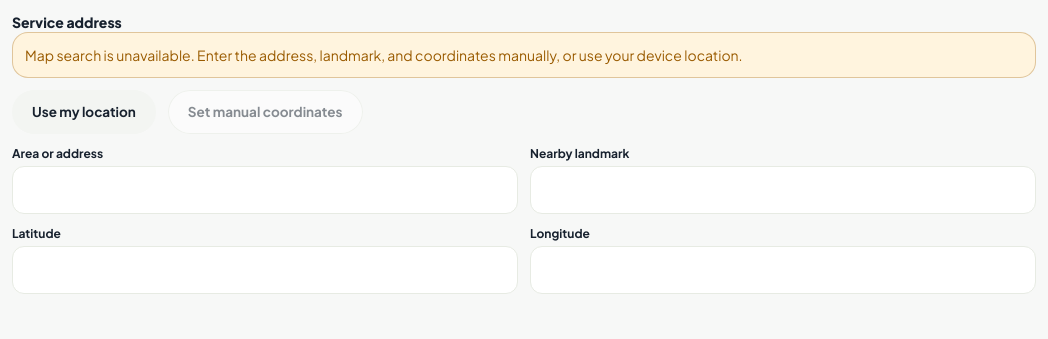
Scenario: Use my location › shows that it is working while the phone looks for a position, and disables the button
Click the button "Use my location". click: {"x": 84, "y": 112}
box: [12, 90, 156, 134]
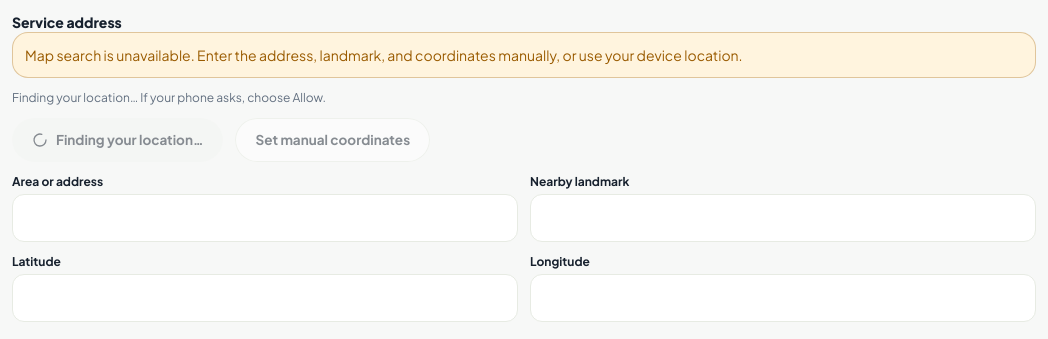
Now the button "Finding your location…" is disabled, box [12, 118, 223, 162]
Now the text "Finding your location… If your phone asks, choose Allow." is shown, box [12, 90, 326, 105]
